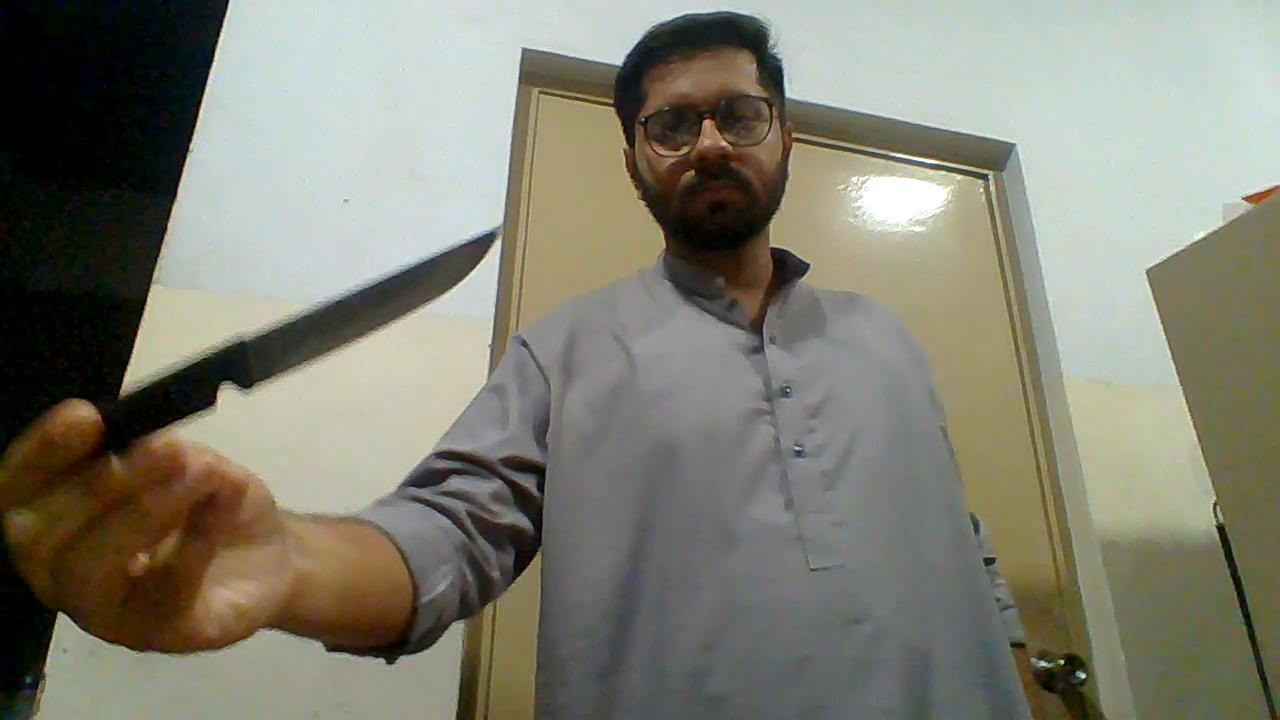criminal: (0, 12, 1042, 720)
weapon: (89, 219, 510, 454)
